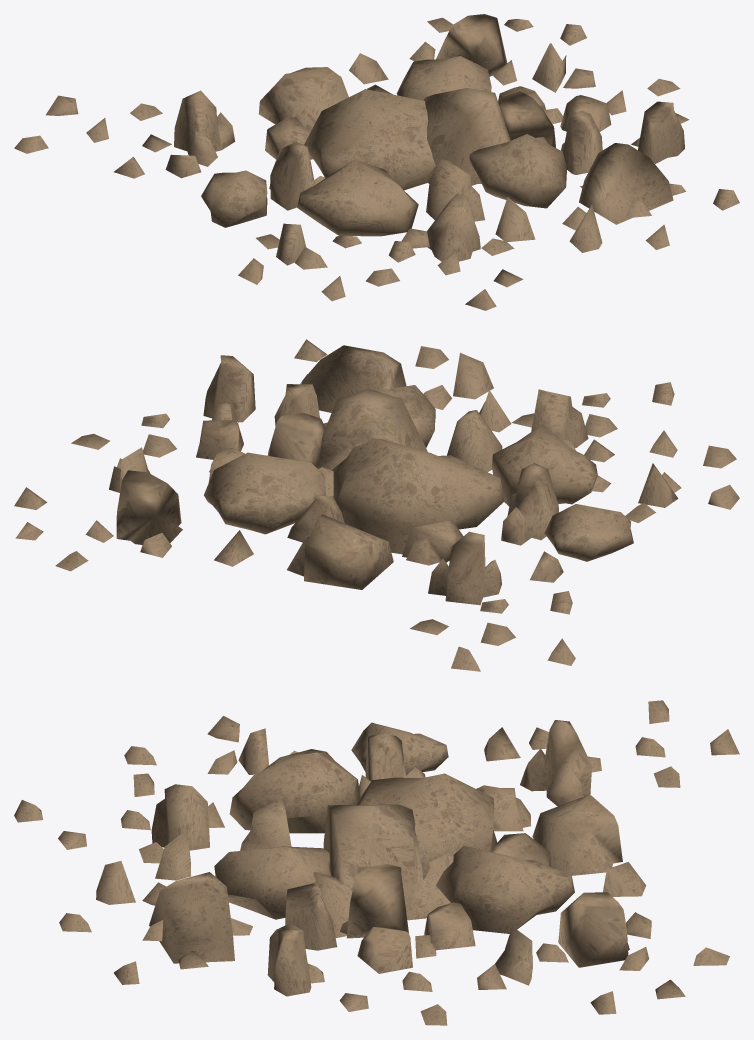
Rendered from sandstone.glb.
The picture shows the model from 3 angles, top to bottom: view 1: azimuth 30°, elevation 25°; view 2: azimuth 150°, elevation 25°; view 3: azimuth 270°, elevation 25°; orthographic projection. The views are drawn at different scales.
Visible parts, largest first — view 1: 立方体.004; view 2: 立方体.004; view 3: 立方体.004.
Boxes of the visible parts, x1,y1,x2,y2 form: 立方体.004: [14, 14, 739, 310]; 立方体.004: [14, 339, 739, 671]; 立方体.004: [14, 700, 739, 1025].
Size of the model in its own units: 41.02 by 6.14 by 39.78.
1 material, 1 textured.
